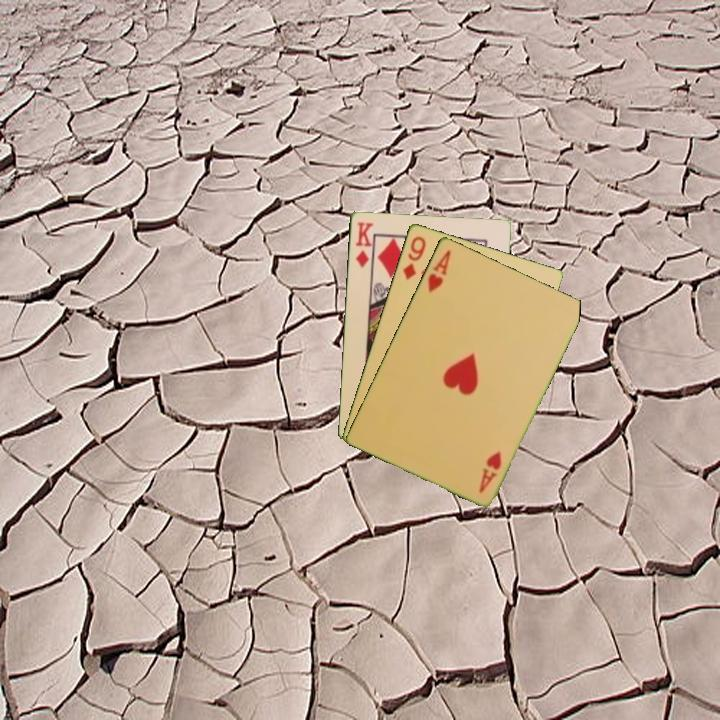9d: (399, 232, 429, 282)
Ah: (424, 246, 454, 295), (475, 447, 504, 496)
Kd: (352, 218, 375, 270)
